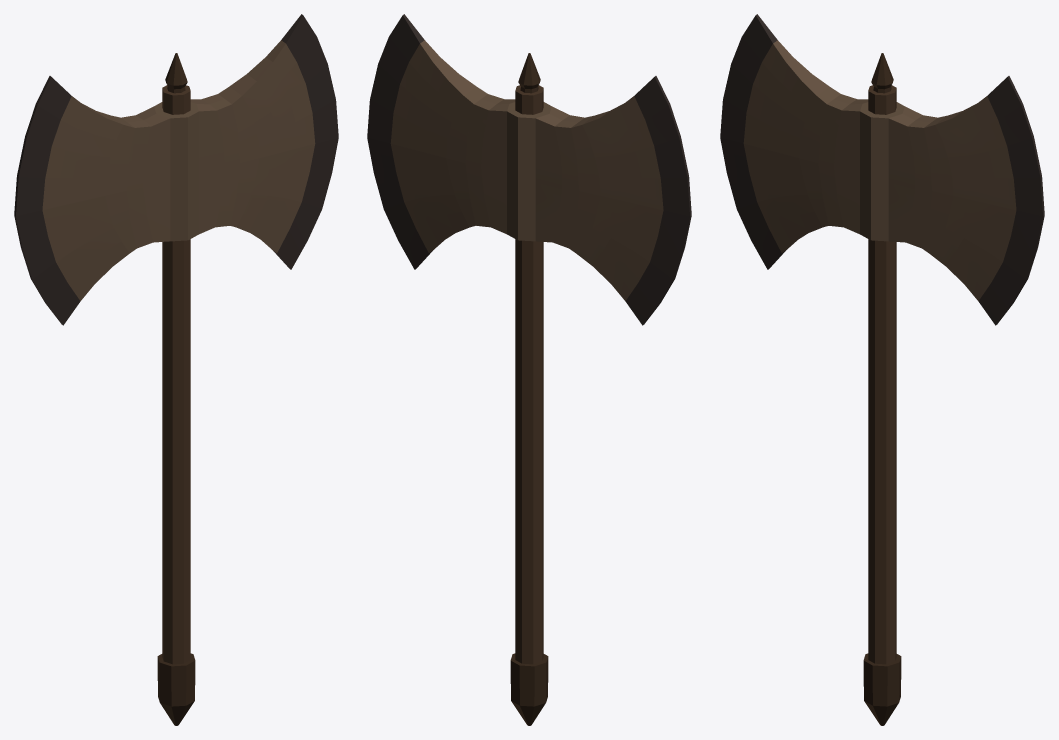
Rendered from shop-item-1010.glb.
3 views of the same model, side by side, from view 1: azimuth 30°, elevation 25°; view 2: azimuth 150°, elevation 25°; view 3: azimuth 330°, elevation 25° (orthographic).
Parts seen in each view (by area): view 1: one_handed_axe_8; view 2: one_handed_axe_8; view 3: one_handed_axe_8.
Part boxes in pixels (<box>): one_handed_axe_8: <box>14,14,338,725</box>; one_handed_axe_8: <box>367,14,691,725</box>; one_handed_axe_8: <box>720,14,1044,725</box>.
Bounding box in the file's own units: 0.6486 × 1.3 × 0.0809.
1 material, 1 textured.
